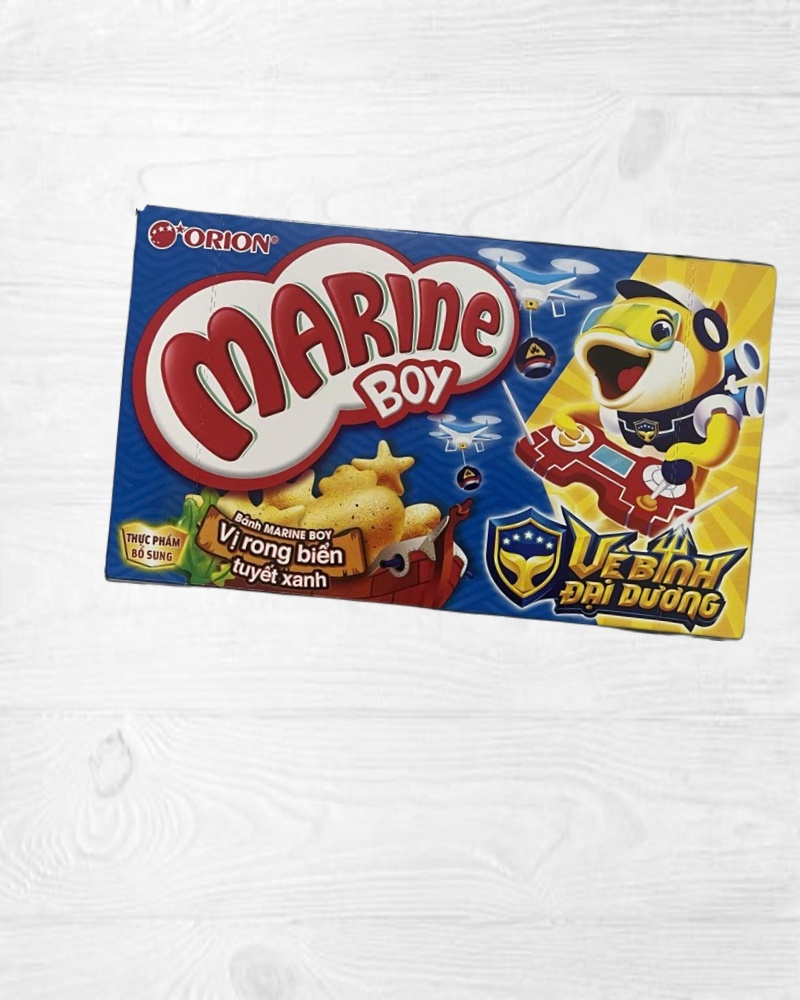Marine: (106, 205, 780, 642)
